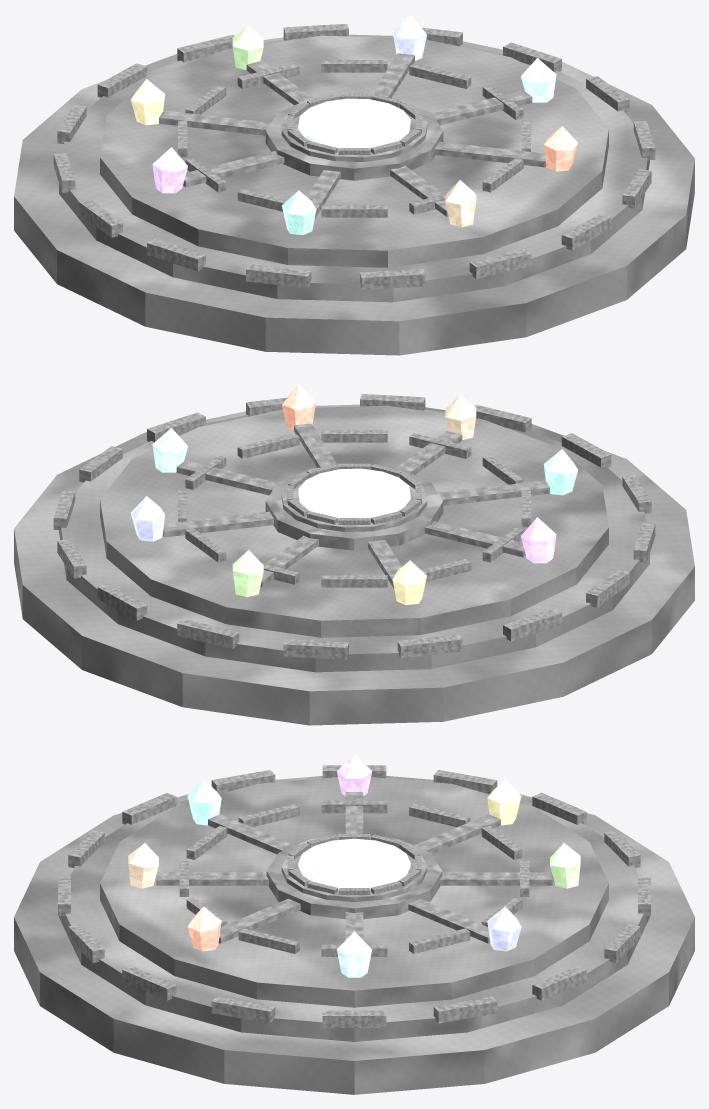
File: crystal-enchanting-dais.glb
3 renders of one model, top to bottom at view 1: azimuth 30°, elevation 25°; view 2: azimuth 150°, elevation 25°; view 3: azimuth 270°, elevation 25°, orthographic.
Parts seen in each view (by area): view 1: working-face, lower-course, middle-course, central-focus, focus-plinth, focus-collar, channel-fire, channel-radiance, channel-seidr, channel-frost, node-seidr, outer-band-14 (+34 smaller); view 2: working-face, lower-course, middle-course, central-focus, focus-plinth, focus-collar, channel-storm, channel-spirit, channel-seidr, channel-frost, node-seidr, outer-band-10 (+34 smaller); view 3: working-face, lower-course, middle-course, central-focus, focus-plinth, focus-collar, channel-earth, channel-venom, channel-fire, channel-storm, channel-radiance, channel-spirit (+29 smaller).
Part boxes in pixels (x1=…): working-face: x1=100, y1=35, x2=608, y2=267; lower-course: x1=14, y1=34, x2=694, y2=355; middle-course: x1=59, y1=36, x2=649, y2=302; central-focus: x1=298, y1=98, x2=410, y2=148; focus-plinth: x1=265, y1=95, x2=443, y2=180; focus-collar: x1=281, y1=96, x2=427, y2=161; channel-fire: x1=435, y1=141, x2=546, y2=167; channel-radiance: x1=159, y1=110, x2=270, y2=135; channel-seidr: x1=183, y1=151, x2=284, y2=187; channel-frost: x1=432, y1=90, x2=532, y2=125; node-seidr: x1=152, y1=147, x2=187, y2=193; outer-band-14: x1=246, y1=264, x2=311, y2=288; working-face: x1=100, y1=405, x2=608, y2=637; lower-course: x1=14, y1=404, x2=694, y2=725; middle-course: x1=59, y1=406, x2=649, y2=672; central-focus: x1=298, y1=468, x2=410, y2=518; focus-plinth: x1=265, y1=465, x2=443, y2=550; focus-collar: x1=281, y1=466, x2=427, y2=531; channel-storm: x1=162, y1=511, x2=273, y2=537; channel-spirit: x1=438, y1=480, x2=549, y2=505; channel-seidr: x1=424, y1=521, x2=525, y2=557; channel-frost: x1=176, y1=460, x2=276, y2=495; node-seidr: x1=521, y1=517, x2=556, y2=563; outer-band-10: x1=397, y1=634, x2=462, y2=658; working-face: x1=100, y1=777, x2=608, y2=1007; lower-course: x1=14, y1=776, x2=694, y2=1094; middle-course: x1=59, y1=778, x2=649, y2=1041; central-focus: x1=298, y1=838, x2=410, y2=888; focus-plinth: x1=266, y1=836, x2=442, y2=919; focus-collar: x1=281, y1=837, x2=427, y2=901; channel-earth: x1=156, y1=872, x2=268, y2=885; channel-venom: x1=440, y1=872, x2=552, y2=885; channel-fire: x1=218, y1=899, x2=300, y2=943; channel-storm: x1=408, y1=899, x2=490, y2=943; channel-radiance: x1=414, y1=814, x2=500, y2=854; channel-spirit: x1=208, y1=814, x2=294, y2=854.
Bounding box in the file's own units: 3.64 × 0.6392 × 3.64.
12 materials, 12 textured.
